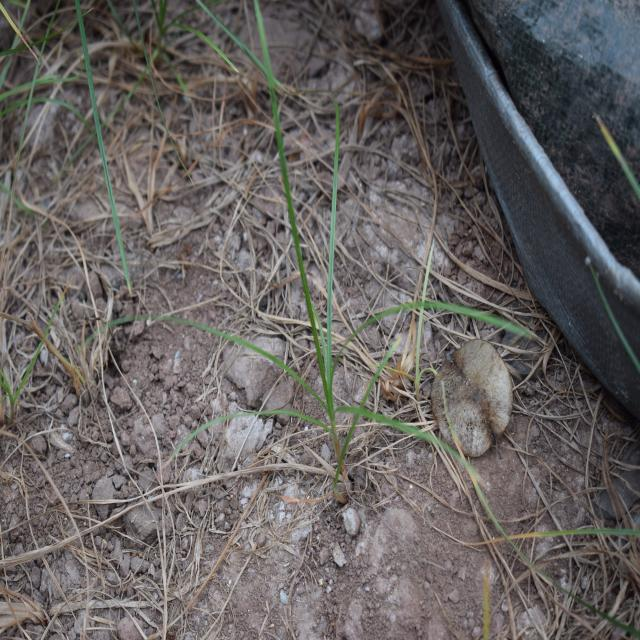sedge: (218, 51, 462, 514)
